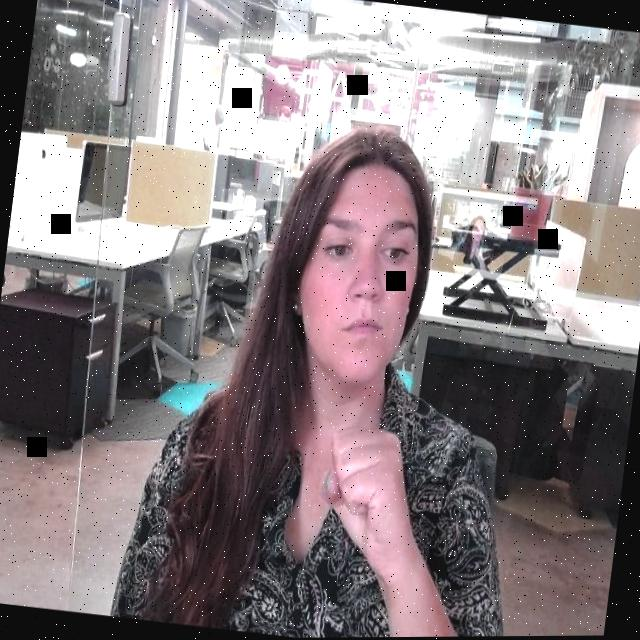Rock: (303, 410, 435, 576)
